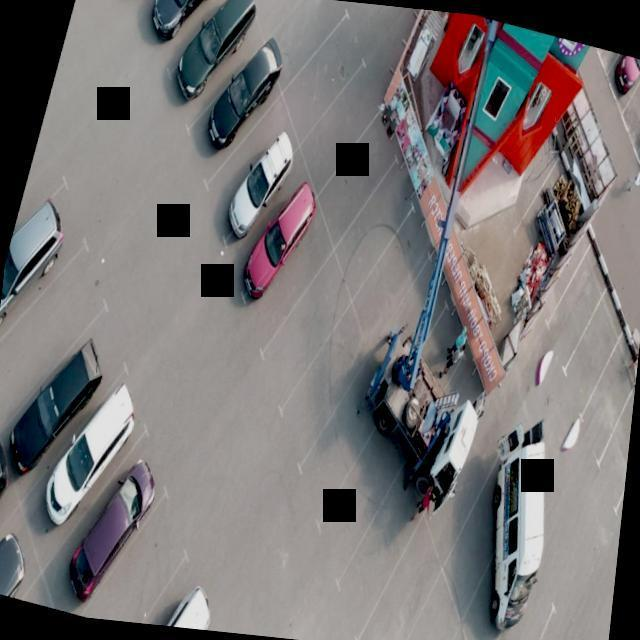car: (11, 337, 170, 572), (24, 406, 187, 626), (303, 429, 446, 640), (0, 295, 129, 509), (272, 341, 401, 539), (208, 188, 334, 386), (198, 135, 325, 328), (435, 430, 539, 636), (412, 377, 518, 576), (304, 406, 422, 584), (173, 26, 291, 198), (190, 85, 300, 252), (362, 236, 458, 427), (0, 167, 83, 373), (522, 236, 623, 394), (351, 194, 439, 372), (450, 488, 551, 640), (152, 0, 269, 127), (120, 530, 247, 632), (475, 522, 569, 640), (131, 0, 233, 71), (0, 502, 45, 600), (0, 422, 25, 591)
free: (0, 201, 132, 449), (64, 450, 225, 630), (298, 72, 417, 269), (236, 238, 357, 430), (254, 298, 379, 472), (331, 499, 463, 640), (331, 131, 423, 333), (295, 43, 396, 217), (271, 0, 375, 160), (540, 280, 640, 430), (562, 311, 640, 491), (572, 344, 638, 543), (251, 0, 347, 106), (376, 570, 480, 640), (598, 404, 633, 566), (507, 572, 588, 640), (536, 624, 608, 640), (408, 627, 496, 640)
